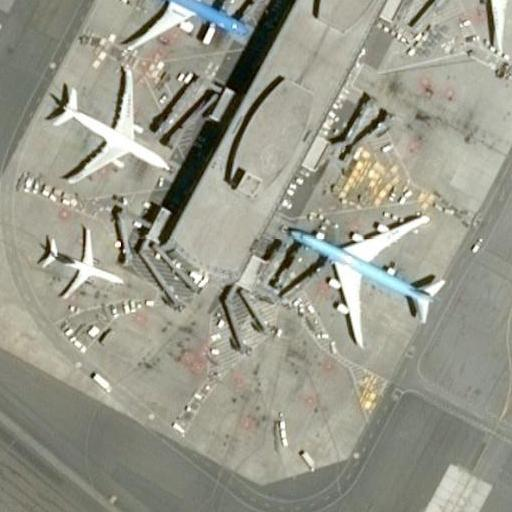Aircraft: (282, 207, 438, 338), (38, 59, 169, 188), (89, 0, 239, 52), (40, 223, 121, 299), (432, 0, 512, 47)
